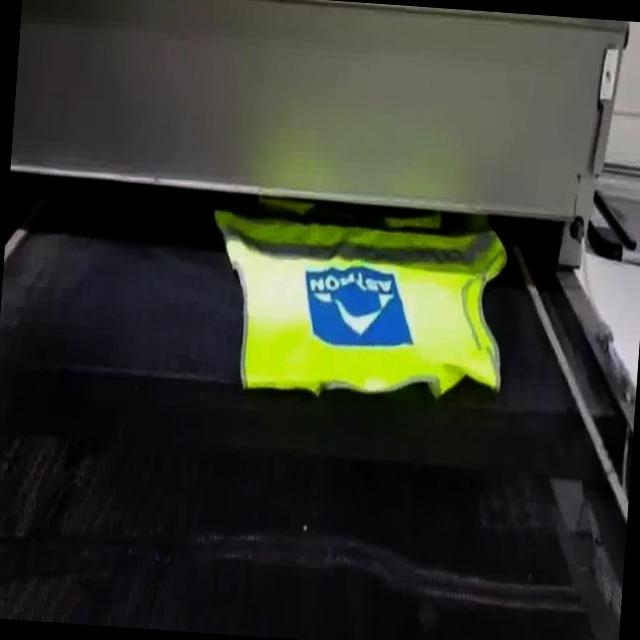vest: (200, 200, 514, 415)
